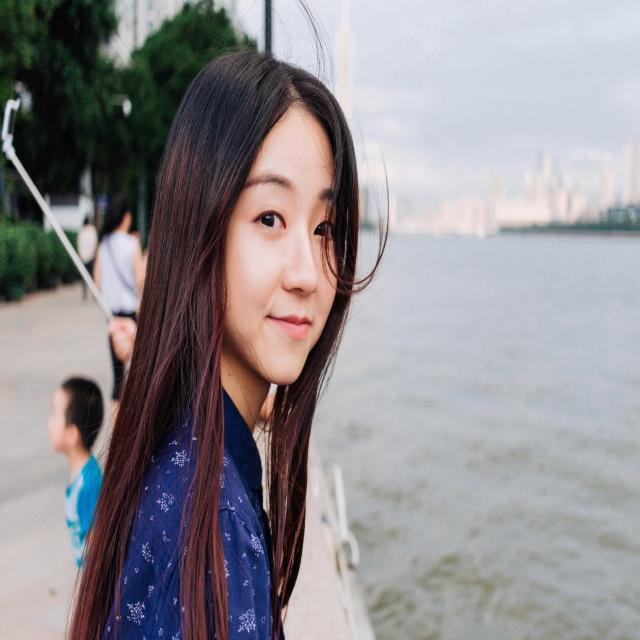adult: (83, 47, 364, 640)
